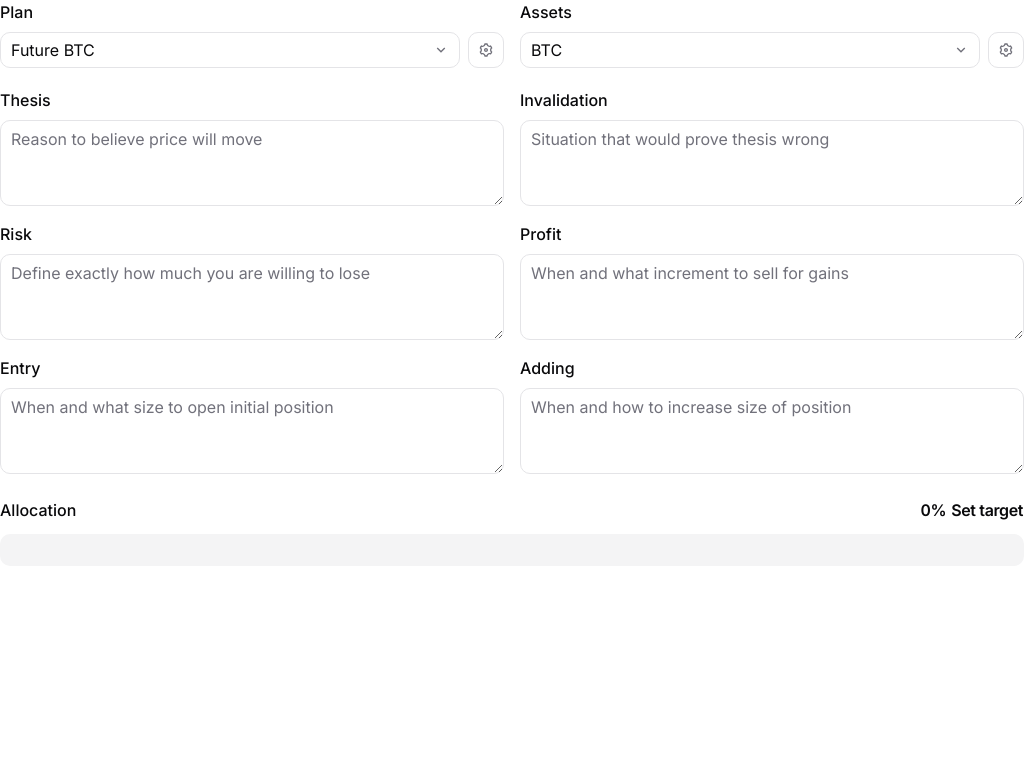
Test case: PlansEditor › the Plan switcher › refuses a ticker the Plan already holds
The image size is (1024, 768).
Click the button named "Asset settings" at point(1006, 50), box x1=988 y1=32 x2=1023 y2=68
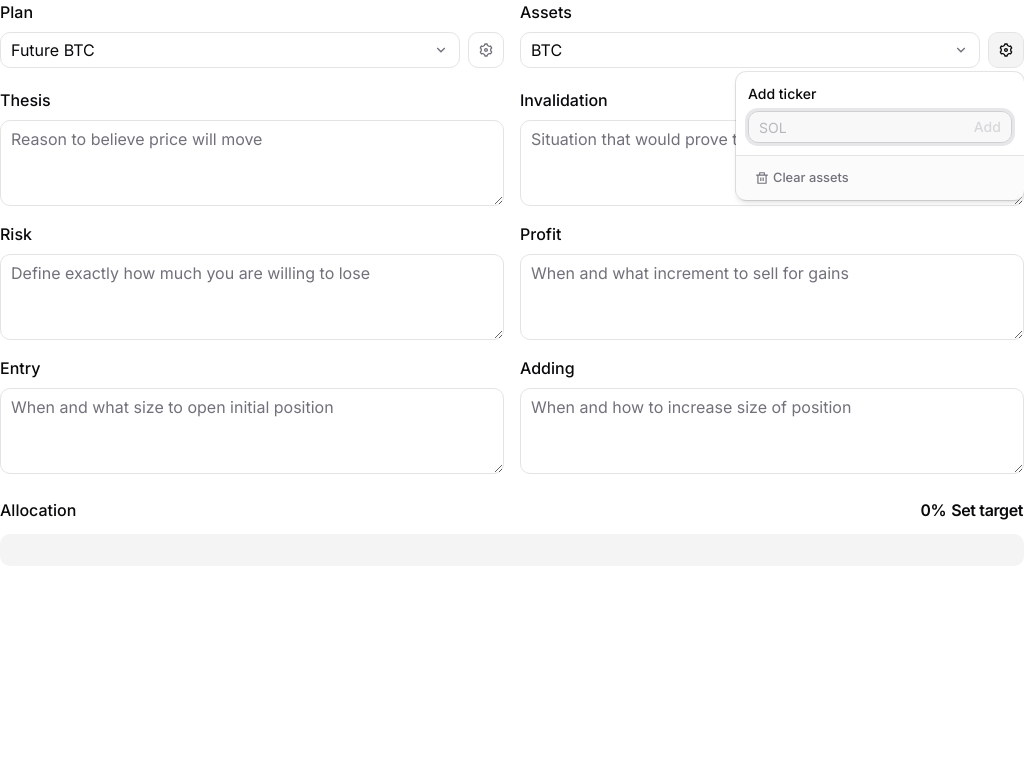
Type "btc" into the field labelled "Add ticker" at point(858, 127), box x1=749 y1=111 x2=967 y2=143
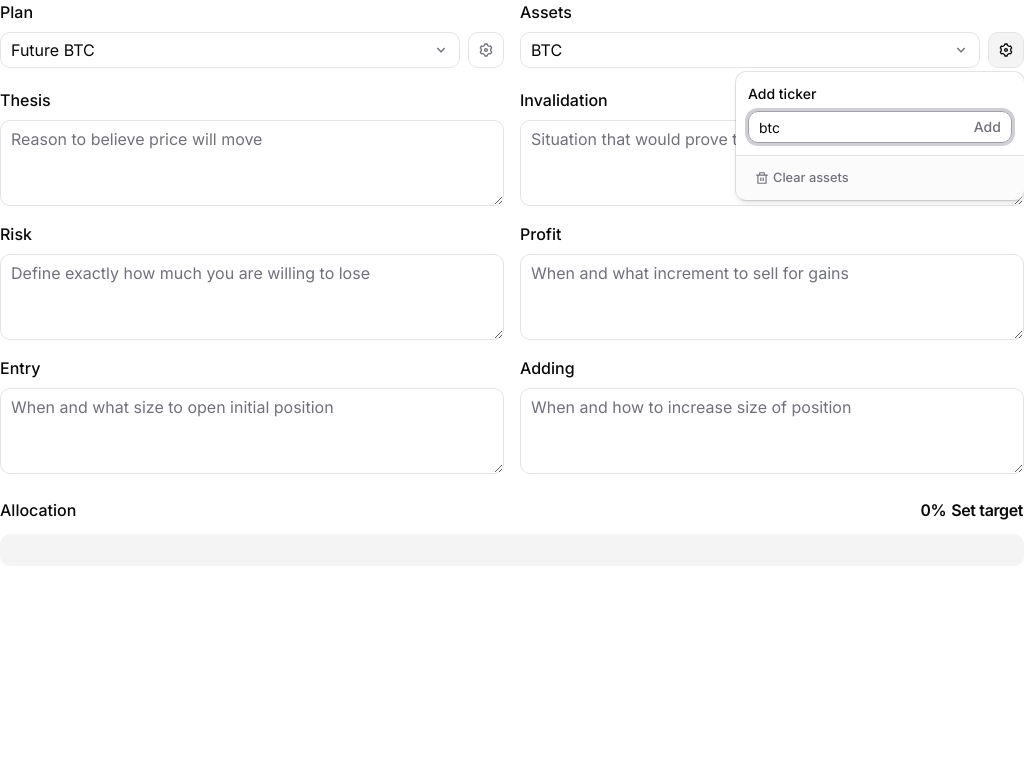
Click the button "Add" at point(987, 127), box x1=967 y1=115 x2=1008 y2=139
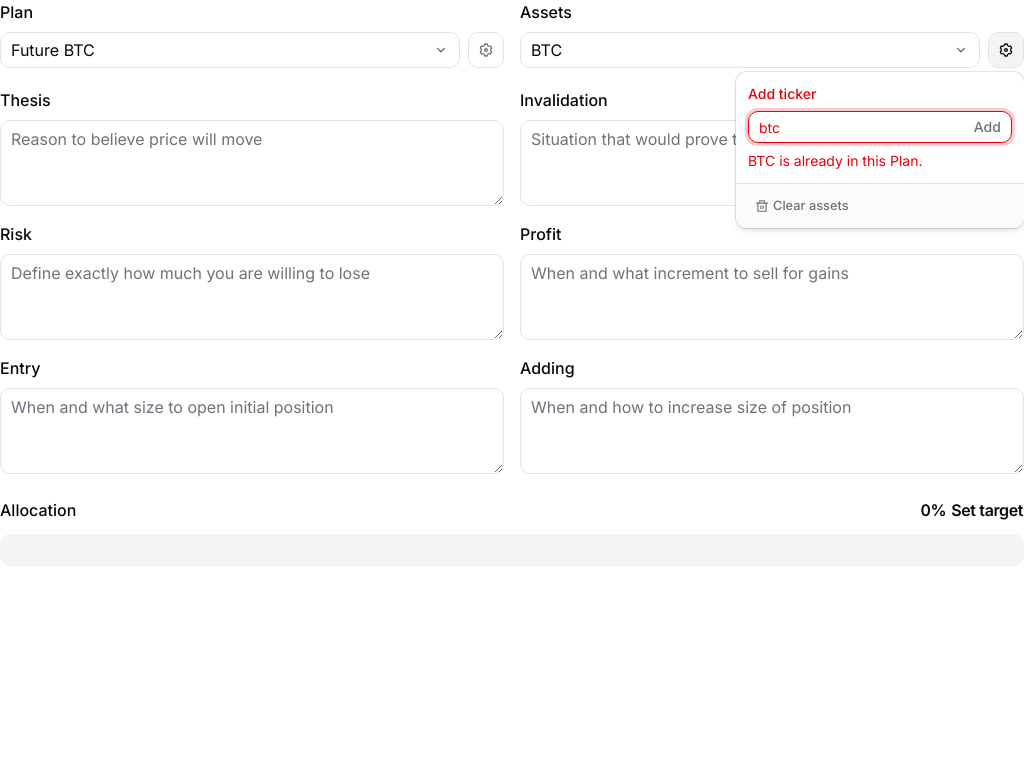
Now the text "BTC is already in this Plan." is shown, box x1=748 y1=152 x2=922 y2=169
